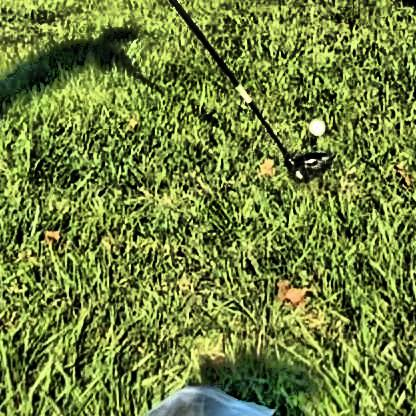golfball: (305, 115, 322, 134)
